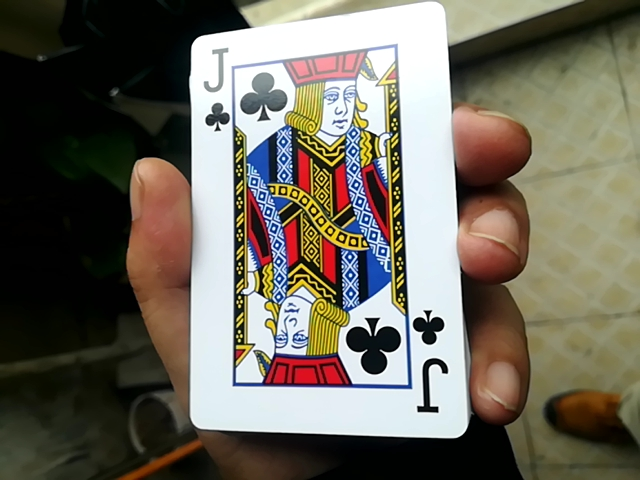mh j: (178, 0, 464, 430)
